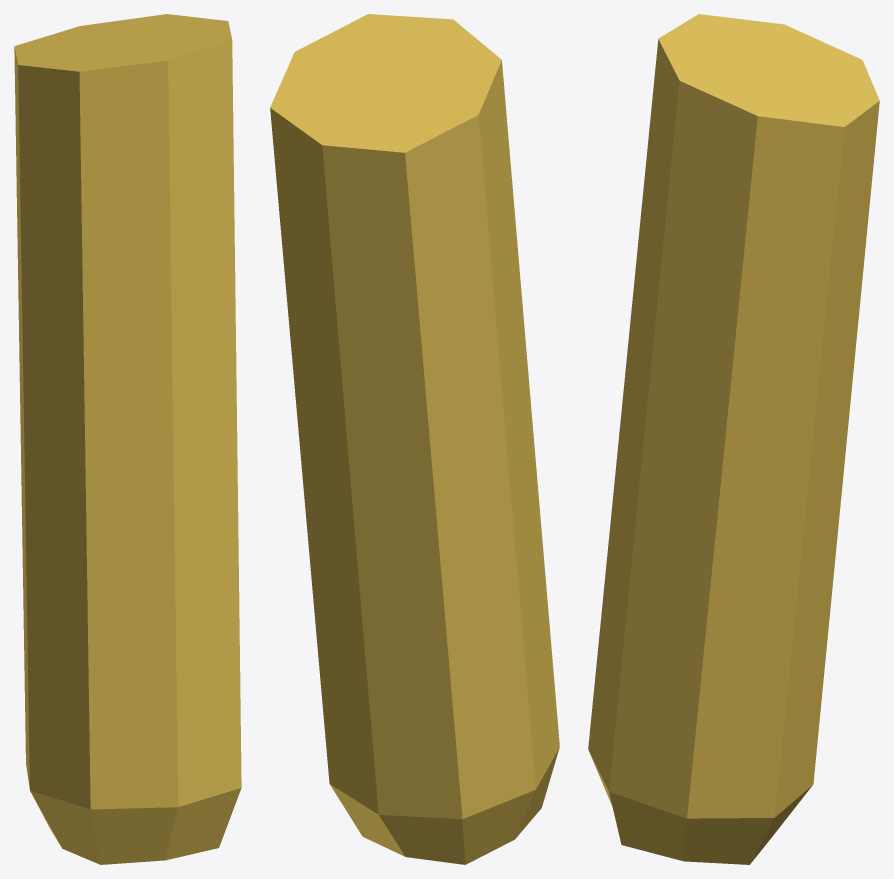
File: wheat_cutdown.fbx
3 renders of one model, left to right at view 1: azimuth 30°, elevation 25°; view 2: azimuth 150°, elevation 25°; view 3: azimuth 270°, elevation 25°, orthographic.
Visible parts, largest first — view 1: Trunk.001; view 2: Trunk.001; view 3: Trunk.001.
Boxes of the visible parts, x1,y1,x2,y2 form: Trunk.001: (14, 14, 241, 864); Trunk.001: (270, 14, 559, 864); Trunk.001: (588, 14, 879, 864).
Size of the model in its own units: 0.0353 by 0.1221 by 0.0402.
